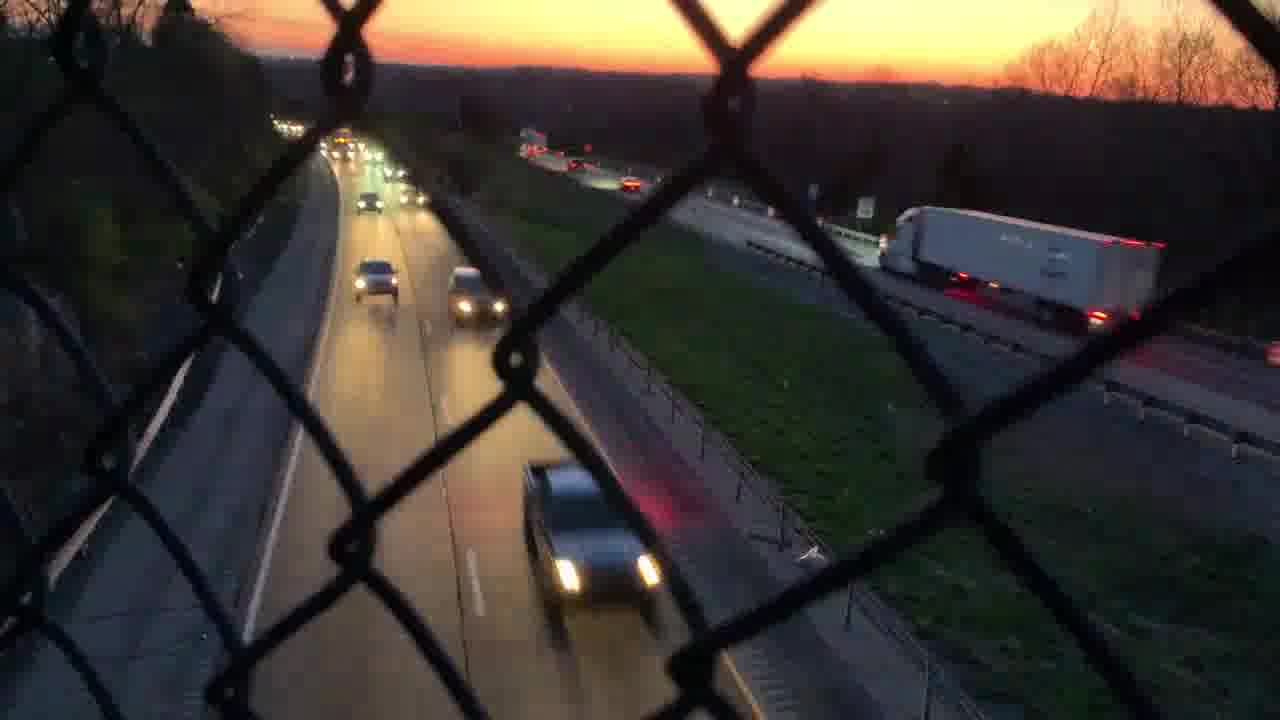heavyTruck: (879, 202, 1174, 339)
largeCar: (443, 265, 508, 332), (355, 190, 385, 216)
lightTruck: (519, 459, 661, 636)
smallCar: (350, 260, 405, 305)
